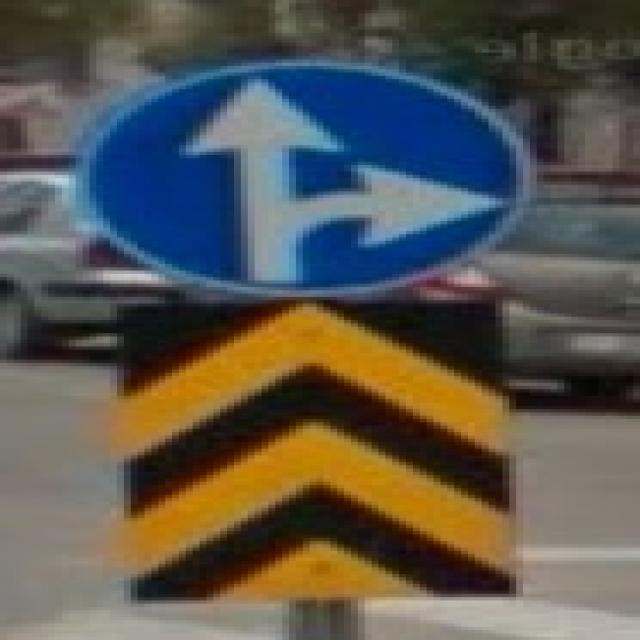Straight or Right: (80, 64, 521, 295)
